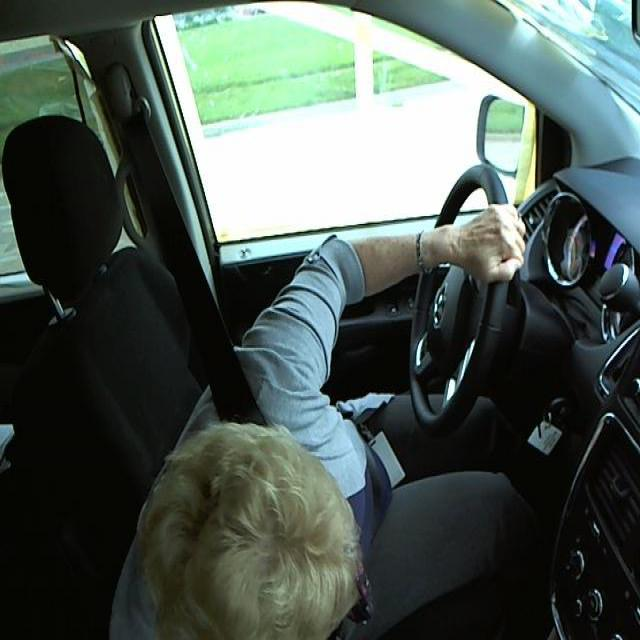seatbelt: (131, 146, 265, 394)
